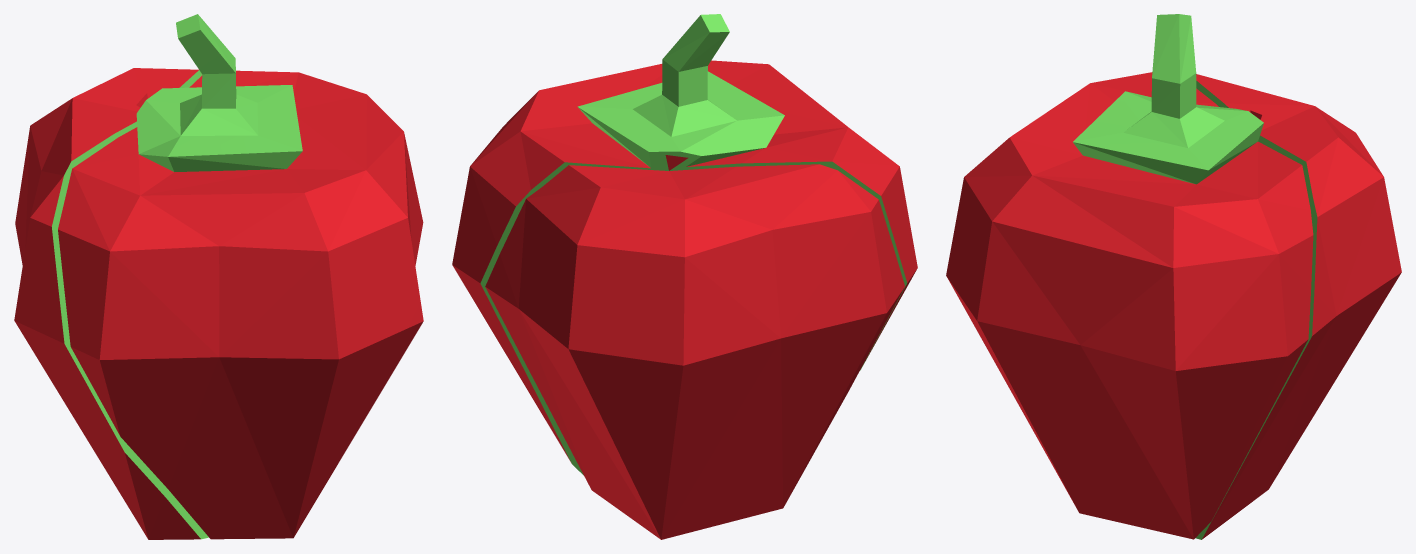
The model's file is BrokenPepper.fbx.
3 renders of one model, left to right at view 1: azimuth 30°, elevation 25°; view 2: azimuth 150°, elevation 25°; view 3: azimuth 270°, elevation 25°, orthographic. The views are drawn at different scales.
Visible parts, largest first — view 1: Pepper_cell, Pepper_cell.001; view 2: Pepper_cell.001, Pepper_cell; view 3: Pepper_cell, Pepper_cell.001.
Boxes of the visible parts, x1,y1,x2,y2 form: Pepper_cell: (58, 14, 423, 539); Pepper_cell.001: (14, 68, 208, 539); Pepper_cell.001: (485, 155, 904, 539); Pepper_cell: (452, 14, 917, 475); Pepper_cell: (946, 14, 1313, 539); Pepper_cell.001: (1195, 74, 1401, 539).
Size of the model in its own units: 12.03 by 14.45 by 12.03.
